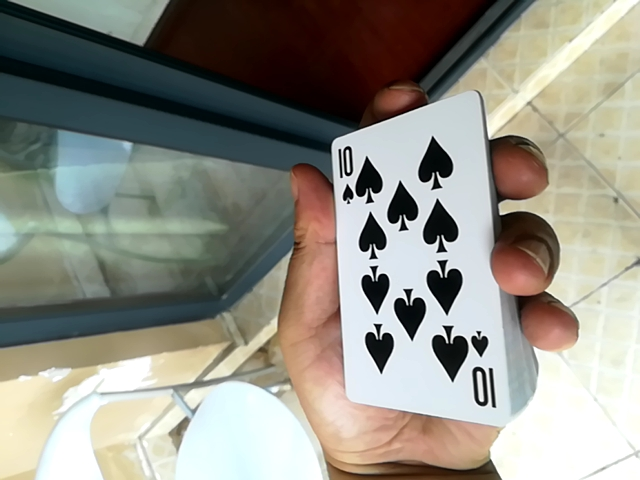ht 10: (322, 107, 514, 424)
